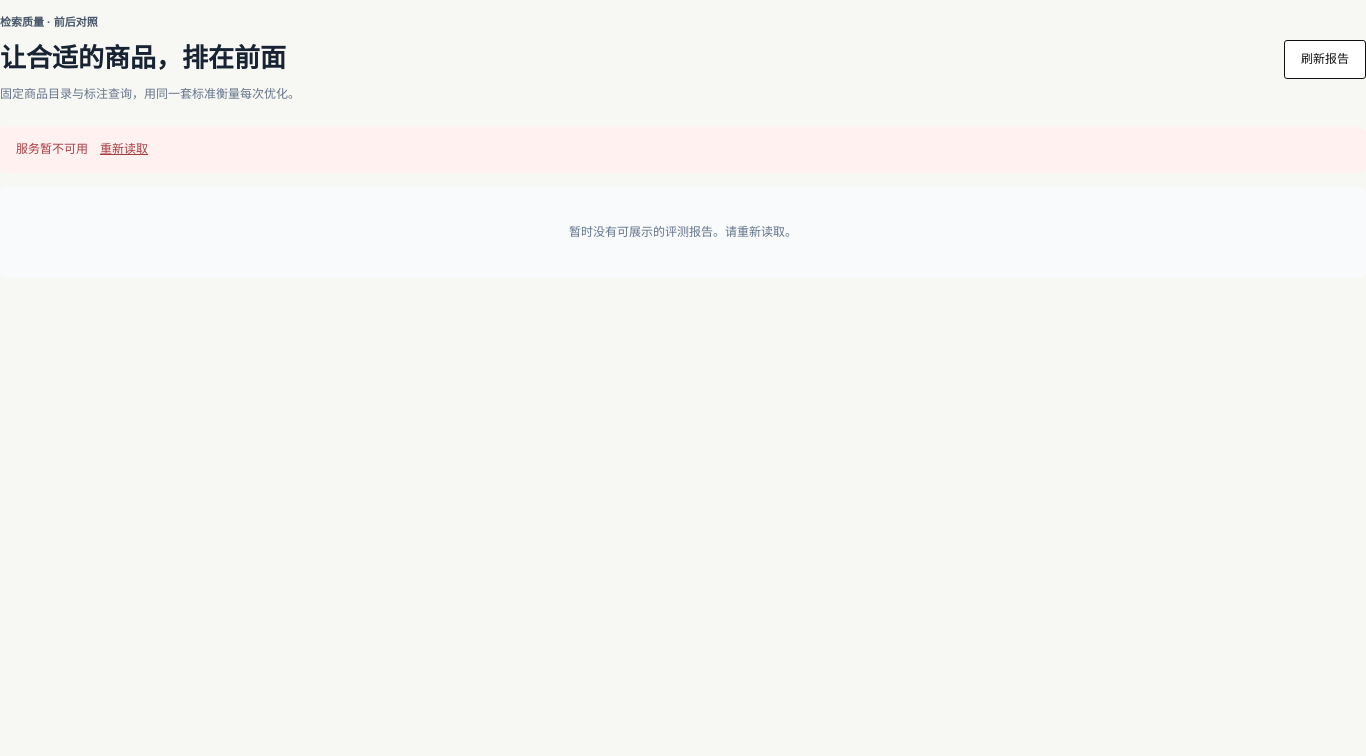
it: 读取失败可以重试，刷新失败保留旧数据并撤销通过显示
The width and height of the screenshot is (1366, 756).
Expected: the message "服务暂不可用 重新读取" is shown, [0,127,1365,173]
Click the button "重新读取".
click(124, 150)  # box [100,139,148,161]
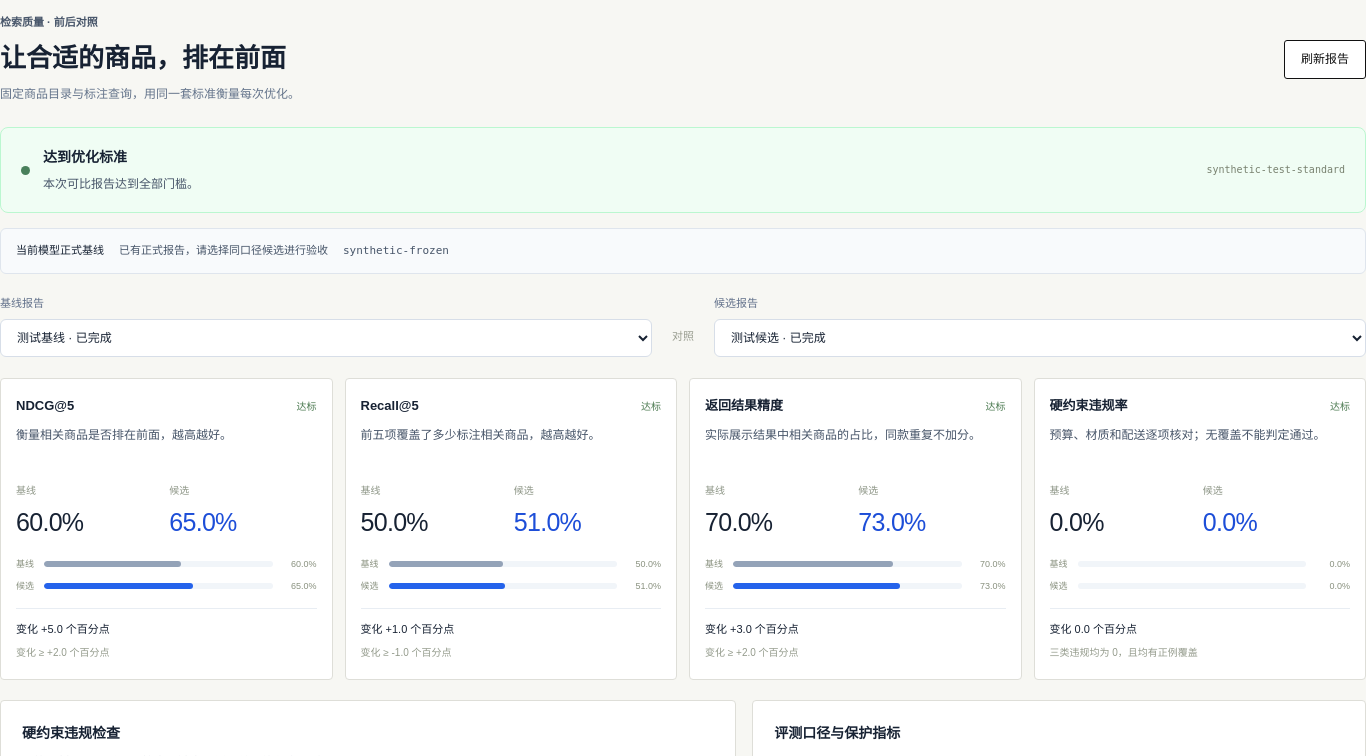
Expected: the message "达到优化标准 本次可比报告达到全部门槛。 synthetic-test-standard" is shown, [0,127,1365,213]
Click the button "刷新报告".
click(1325, 60)  # box [1284,40,1365,79]
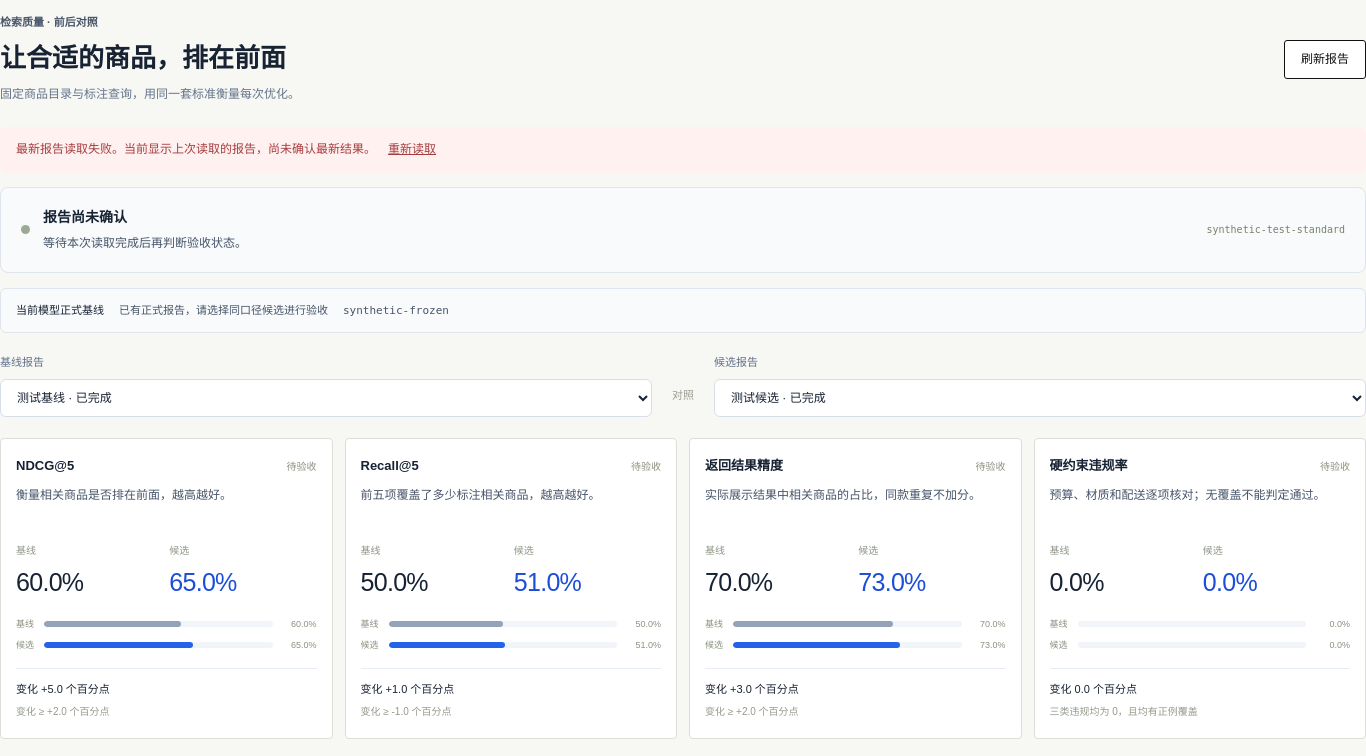
Expected: the text "65.0%" is shown, [169,568,237,596]
Expected: the message "最新报告读取失败。当前显示上次读取的报告，尚未确认最新结果。 重新读取" is shown, [0,127,1365,173]
